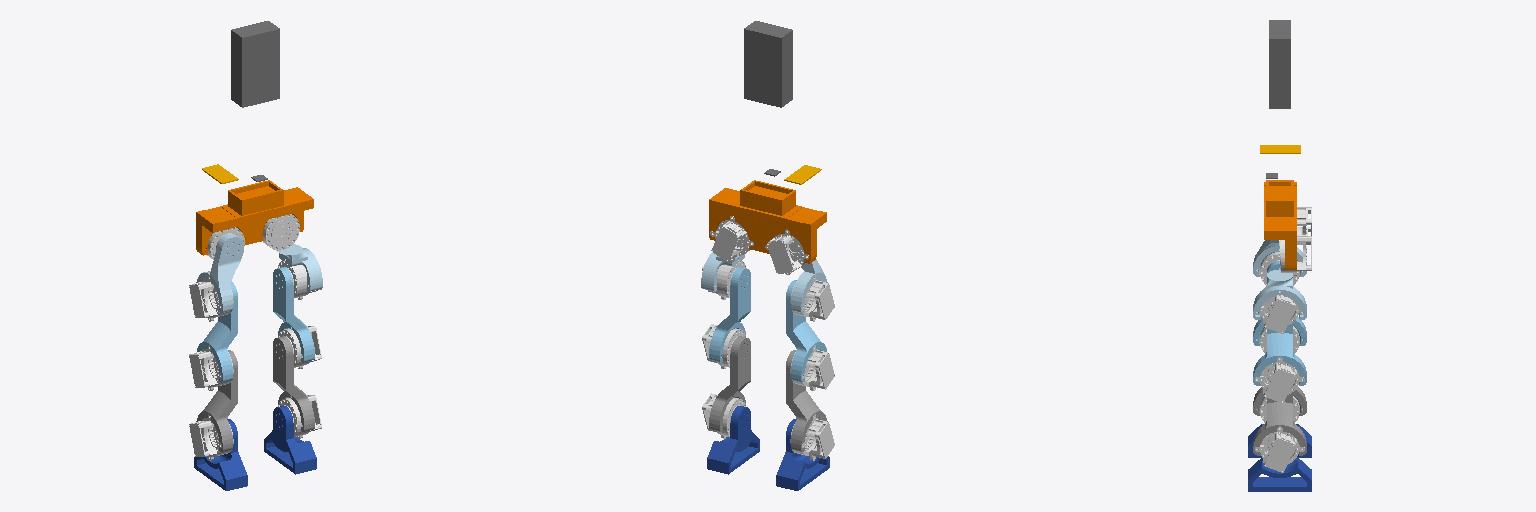
The robot description file, URDF, robot "chicken_v4":
<!--URDF generated by ONSHAPE BY PTC INC, 1.223-->
<robot name="chicken_v4">
    <link name="battery">
        <inertial>
            <mass value="0.000638352" />
            <origin xyz="1.30903e-17 -6.3375e-18 0.078" rpy="0 -0 0" />
            <inertia ixx="1.4096e-06" ixy="0" ixz="0" iyy="1.70653e-06" iyz="0" izz="5.26973e-07" />
        </inertial>
        <visual>
            <origin xyz="1.64023e-17 -6.17031e-18 -0.2069" rpy="0 -0 0" />
            <geometry>
                <mesh filename="package://chicken_v4/meshes/battery.stl" scale="1 1 1" />
            </geometry>
            <material name="0.498039_0.498039_0.498039_0.000000_0.000000">
                <color rgba="0.498039 0.498039 0.498039 1" />
            </material>
        </visual>
    </link>
    <link name="hip">
        <inertial>
            <mass value="0.850859" />
            <origin xyz="0.000321877 0.00769638 0.166364" rpy="0 -0 0" />
            <inertia ixx="0.000834692" ixy="1.69702e-06" ixz="-4.11791e-06" iyy="0.00380616" iyz="0.000171326" izz="0.00357084" />
        </inertial>
        <visual>
            <origin xyz="0 0 0" rpy="0 -0 0" />
            <geometry>
                <mesh filename="package://chicken_v4/meshes/hip.stl" scale="1 1 1" />
            </geometry>
            <material name="0.972549_0.529412_0.003922_0.000000_0.000000">
                <color rgba="0.972549 0.529412 0.00392157 1" />
            </material>
        </visual>
    </link>
    <link name="imu">
        <inertial>
            <mass value="0.00215625" />
            <origin xyz="4.66816e-18 3.46945e-18 -0.0015" rpy="0 -0 0" />
            <inertia ixx="9.66719e-08" ixy="0" ixz="0" iyy="1.13922e-07" iyz="0" izz="2.07359e-07" />
        </inertial>
        <visual>
            <origin xyz="4.29988e-18 0.016 -0.1619" rpy="0 -0 0" />
            <geometry>
                <mesh filename="package://chicken_v4/meshes/imu.stl" scale="1 1 1" />
            </geometry>
            <material name="0.498039_0.498039_0.498039_0.000000_0.000000">
                <color rgba="0.498039 0.498039 0.498039 1" />
            </material>
        </visual>
    </link>
    <link name="lfoot">
        <inertial>
            <mass value="0.27475" />
            <origin xyz="0.002788 -1.53514e-10 -0.0556859" rpy="0 -0 0" />
            <inertia ixx="0.000591386" ixy="-8.57351e-13" ixz="5.5009e-05" iyy="0.000336221" iyz="-1.65362e-13" izz="0.00036925" />
        </inertial>
        <visual>
            <origin xyz="-0.073 -1.58033e-15 0.3099" rpy="0 -0 0" />
            <geometry>
                <mesh filename="package://chicken_v4/meshes/lfoot.stl" scale="1 1 1" />
            </geometry>
            <material name="0.231373_0.380392_0.705882_0.000000_0.000000">
                <color rgba="0.231373 0.380392 0.705882 1" />
            </material>
        </visual>
    </link>
    <link name="lhip">
        <inertial>
            <mass value="0.170522" />
            <origin xyz="0.0178012 -0.00726228 -0.0442833" rpy="0 -0 0" />
            <inertia ixx="0.000355911" ixy="-7.93774e-06" ixz="7.96352e-05" iyy="0.000304669" iyz="2.53374e-05" izz="0.000156205" />
        </inertial>
        <visual>
            <origin xyz="-0.0645 0 -0.1076" rpy="0 -0 0" />
            <geometry>
                <mesh filename="package://chicken_v4/meshes/lhip.stl" scale="1 1 1" />
            </geometry>
            <material name="0.768627_0.886275_0.952941_0.000000_0.000000">
                <color rgba="0.768627 0.886275 0.952941 1" />
            </material>
        </visual>
    </link>
    <link name="llegbottom">
        <inertial>
            <mass value="0.228568" />
            <origin xyz="0.00475445 9.26903e-10 -0.0721569" rpy="0 -0 0" />
            <inertia ixx="0.000706948" ixy="-5.39854e-12" ixz="0.000141469" iyy="0.000630426" iyz="9.93255e-12" izz="0.000182743" />
        </inertial>
        <visual>
            <origin xyz="-0.073 0 0.15495" rpy="0 -0 0" />
            <geometry>
                <mesh filename="package://chicken_v4/meshes/llegbottom.stl" scale="1 1 1" />
            </geometry>
            <material name="0.647059_0.647059_0.647059_0.000000_0.000000">
                <color rgba="0.647059 0.647059 0.647059 1" />
            </material>
        </visual>
    </link>
    <link name="llegtop">
        <inertial>
            <mass value="0.228568" />
            <origin xyz="0.00475445 9.3524e-10 -0.0721569" rpy="0 -0 0" />
            <inertia ixx="0.000706948" ixy="-5.43468e-12" ixz="0.000141469" iyy="0.000630426" iyz="9.95435e-12" izz="0.000182743" />
        </inertial>
        <visual>
            <origin xyz="-0.073 0 -9.44925e-18" rpy="0 -0 0" />
            <geometry>
                <mesh filename="package://chicken_v4/meshes/llegtop.stl" scale="1 1 1" />
            </geometry>
            <material name="0.615686_0.811765_0.929412_0.000000_0.000000">
                <color rgba="0.615686 0.811765 0.929412 1" />
            </material>
        </visual>
    </link>
    <link name="rfoot">
        <inertial>
            <mass value="0.27475" />
            <origin xyz="-0.002788 -1.53512e-10 -0.0556859" rpy="0 -0 0" />
            <inertia ixx="0.000591386" ixy="8.57351e-13" ixz="-5.5009e-05" iyy="0.000336221" iyz="-1.65362e-13" izz="0.00036925" />
        </inertial>
        <visual>
            <origin xyz="0.073 0 0.3099" rpy="0 -0 0" />
            <geometry>
                <mesh filename="package://chicken_v4/meshes/rfoot.stl" scale="1 1 1" />
            </geometry>
            <material name="0.231373_0.380392_0.705882_0.000000_0.000000">
                <color rgba="0.231373 0.380392 0.705882 1" />
            </material>
        </visual>
    </link>
    <link name="rhip">
        <inertial>
            <mass value="0.170522" />
            <origin xyz="-0.0178012 -0.00726228 -0.0442833" rpy="0 -0 0" />
            <inertia ixx="0.000355911" ixy="7.93774e-06" ixz="-7.96352e-05" iyy="0.000304669" iyz="2.53374e-05" izz="0.000156205" />
        </inertial>
        <visual>
            <origin xyz="0.0645 0 -0.1076" rpy="0 -0 0" />
            <geometry>
                <mesh filename="package://chicken_v4/meshes/rhip.stl" scale="1 1 1" />
            </geometry>
            <material name="0.768627_0.886275_0.952941_0.000000_0.000000">
                <color rgba="0.768627 0.886275 0.952941 1" />
            </material>
        </visual>
    </link>
    <link name="rlegbottom">
        <inertial>
            <mass value="0.228568" />
            <origin xyz="-0.00475445 9.24648e-10 -0.0721569" rpy="0 -0 0" />
            <inertia ixx="0.000706948" ixy="4.41611e-12" ixz="-0.000141469" iyy="0.000630426" iyz="9.21174e-12" izz="0.000182743" />
        </inertial>
        <visual>
            <origin xyz="0.073 0 0.15495" rpy="0 -0 0" />
            <geometry>
                <mesh filename="package://chicken_v4/meshes/rlegbottom.stl" scale="1 1 1" />
            </geometry>
            <material name="0.647059_0.647059_0.647059_0.000000_0.000000">
                <color rgba="0.647059 0.647059 0.647059 1" />
            </material>
        </visual>
    </link>
    <link name="rlegtop">
        <inertial>
            <mass value="0.228568" />
            <origin xyz="-0.00475445 9.29488e-10 -0.0721569" rpy="0 -0 0" />
            <inertia ixx="0.000706948" ixy="4.44197e-12" ixz="-0.000141469" iyy="0.000630426" iyz="9.23608e-12" izz="0.000182743" />
        </inertial>
        <visual>
            <origin xyz="0.073 0 -9.44925e-18" rpy="0 -0 0" />
            <geometry>
                <mesh filename="package://chicken_v4/meshes/rlegtop.stl" scale="1 1 1" />
            </geometry>
            <material name="0.615686_0.811765_0.929412_0.000000_0.000000">
                <color rgba="0.615686 0.811765 0.929412 1" />
            </material>
        </visual>
    </link>
    <link name="root" />
    <link name="simplecycloid">
        <inertial>
            <mass value="0.000118329" />
            <origin xyz="0.00346062 0.0458377 8.81747e-05" rpy="0 -0 0" />
            <inertia ixx="1.15511e-07" ixy="1.54615e-10" ixz="3.6442e-10" iyy="1.05939e-07" iyz="-7.74897e-09" izz="9.3638e-08" />
        </inertial>
        <visual>
            <origin xyz="0.1005 0.0458 0.15495" rpy="0 -0 0" />
            <geometry>
                <mesh filename="package://chicken_v4/meshes/simplecycloid.stl" scale="1 1 1" />
            </geometry>
            <material name="0.917647_0.917647_0.917647_0.000000_0.000000">
                <color rgba="0.917647 0.917647 0.917647 1" />
            </material>
        </visual>
    </link>
    <link name="simplecycloid_1">
        <inertial>
            <mass value="0.000118329" />
            <origin xyz="-0.00346062 -0.0457623 8.81747e-05" rpy="0 -0 0" />
            <inertia ixx="1.15511e-07" ixy="-1.54615e-10" ixz="-3.6442e-10" iyy="1.05939e-07" iyz="-7.74898e-09" izz="9.3638e-08" />
        </inertial>
        <visual>
            <origin xyz="-0.1005 -0.0458 -1.05512e-17" rpy="0 -0 0" />
            <geometry>
                <mesh filename="package://chicken_v4/meshes/simplecycloid_1.stl" scale="1 1 1" />
            </geometry>
            <material name="0.917647_0.917647_0.917647_0.000000_0.000000">
                <color rgba="0.917647 0.917647 0.917647 1" />
            </material>
        </visual>
    </link>
    <link name="simplecycloid_2">
        <inertial>
            <mass value="0.000118329" />
            <origin xyz="0.00346062 0.0458377 8.81747e-05" rpy="0 -0 0" />
            <inertia ixx="1.15511e-07" ixy="1.54615e-10" ixz="3.6442e-10" iyy="1.05939e-07" iyz="-7.74897e-09" izz="9.3638e-08" />
        </inertial>
        <visual>
            <origin xyz="0.1005 0.0458 0.3099" rpy="0 -0 0" />
            <geometry>
                <mesh filename="package://chicken_v4/meshes/simplecycloid_2.stl" scale="1 1 1" />
            </geometry>
            <material name="0.917647_0.917647_0.917647_0.000000_0.000000">
                <color rgba="0.917647 0.917647 0.917647 1" />
            </material>
        </visual>
    </link>
    <link name="simplecycloid_3">
        <inertial>
            <mass value="0.000118329" />
            <origin xyz="0.0458377 -0.00346062 8.81747e-05" rpy="0 -0 0" />
            <inertia ixx="1.05939e-07" ixy="-1.54615e-10" ixz="-7.74897e-09" iyy="1.15511e-07" iyz="-3.6442e-10" izz="9.3638e-08" />
        </inertial>
        <visual>
            <origin xyz="0.1103 -0.0275 -0.1076" rpy="0 -0 0" />
            <geometry>
                <mesh filename="package://chicken_v4/meshes/simplecycloid_3.stl" scale="1 1 1" />
            </geometry>
            <material name="0.917647_0.917647_0.917647_0.000000_0.000000">
                <color rgba="0.917647 0.917647 0.917647 1" />
            </material>
        </visual>
    </link>
    <link name="simplecycloid_4">
        <inertial>
            <mass value="0.000118329" />
            <origin xyz="0.00346062 0.0458377 8.81747e-05" rpy="0 -0 0" />
            <inertia ixx="1.15511e-07" ixy="1.54615e-10" ixz="3.6442e-10" iyy="1.05939e-07" iyz="-7.74897e-09" izz="9.3638e-08" />
        </inertial>
        <visual>
            <origin xyz="0.1005 0.0458 -1.48277e-17" rpy="0 -0 0" />
            <geometry>
                <mesh filename="package://chicken_v4/meshes/simplecycloid_4.stl" scale="1 1 1" />
            </geometry>
            <material name="0.917647_0.917647_0.917647_0.000000_0.000000">
                <color rgba="0.917647 0.917647 0.917647 1" />
            </material>
        </visual>
    </link>
    <link name="simplecycloid_5">
        <inertial>
            <mass value="0.000118329" />
            <origin xyz="0.0457623 -0.00346062 8.81747e-05" rpy="0 -0 0" />
            <inertia ixx="1.05939e-07" ixy="1.54615e-10" ixz="7.74898e-09" iyy="1.15511e-07" iyz="-3.6442e-10" izz="9.3638e-08" />
        </inertial>
        <visual>
            <origin xyz="-0.0187 -0.0275 -0.1076" rpy="0 -0 0" />
            <geometry>
                <mesh filename="package://chicken_v4/meshes/simplecycloid_5.stl" scale="1 1 1" />
            </geometry>
            <material name="0.917647_0.917647_0.917647_0.000000_0.000000">
                <color rgba="0.917647 0.917647 0.917647 1" />
            </material>
        </visual>
    </link>
    <link name="simplecycloid_6">
        <inertial>
            <mass value="0.000118329" />
            <origin xyz="-0.00346062 -0.0457623 8.81747e-05" rpy="0 -0 0" />
            <inertia ixx="1.15511e-07" ixy="-1.54615e-10" ixz="-3.6442e-10" iyy="1.05939e-07" iyz="-7.74898e-09" izz="9.3638e-08" />
        </inertial>
        <visual>
            <origin xyz="-0.1005 -0.0458 0.3099" rpy="0 -0 0" />
            <geometry>
                <mesh filename="package://chicken_v4/meshes/simplecycloid_6.stl" scale="1 1 1" />
            </geometry>
            <material name="0.917647_0.917647_0.917647_0.000000_0.000000">
                <color rgba="0.917647 0.917647 0.917647 1" />
            </material>
        </visual>
    </link>
    <link name="simplecycloid_7">
        <inertial>
            <mass value="0.000118329" />
            <origin xyz="-0.00346062 -0.0457623 8.81747e-05" rpy="0 -0 0" />
            <inertia ixx="1.15511e-07" ixy="-1.54615e-10" ixz="-3.6442e-10" iyy="1.05939e-07" iyz="-7.74898e-09" izz="9.3638e-08" />
        </inertial>
        <visual>
            <origin xyz="-0.1005 -0.0458 0.15495" rpy="0 -0 0" />
            <geometry>
                <mesh filename="package://chicken_v4/meshes/simplecycloid_7.stl" scale="1 1 1" />
            </geometry>
            <material name="0.917647_0.917647_0.917647_0.000000_0.000000">
                <color rgba="0.917647 0.917647 0.917647 1" />
            </material>
        </visual>
    </link>
    <link name="stm32">
        <inertial>
            <mass value="0.0123" />
            <origin xyz="1.38778e-17 1.73472e-17 0.0015" rpy="0 -0 0" />
            <inertia ixx="6.90133e-06" ixy="0" ixz="0" iyy="1.64922e-06" iyz="0" izz="8.5321e-06" />
        </inertial>
        <visual>
            <origin xyz="0.0817529 -0.00263012 -0.1819" rpy="0 -0 0" />
            <geometry>
                <mesh filename="package://chicken_v4/meshes/stm32.stl" scale="1 1 1" />
            </geometry>
            <material name="0.980392_0.713725_0.003922_0.000000_0.000000">
                <color rgba="0.980392 0.713726 0.00392157 1" />
            </material>
        </visual>
    </link>
    <joint name="fastened_1" type="fixed">
        <origin xyz="-1.64023e-17 6.17031e-18 0.2069" rpy="0 -0 0" />
        <axis xyz="0 0 -1" />
        <parent link="hip" />
        <child link="battery" />
    </joint>
    <joint name="fastened_10" type="fixed">
        <origin xyz="-0.0275 -0.0458 -0.15495" rpy="0 -0 0" />
        <axis xyz="1 0 -1.06752e-16" />
        <parent link="rlegtop" />
        <child link="simplecycloid" />
    </joint>
    <joint name="fastened_11" type="fixed">
        <origin xyz="-0.0275 -0.0458 -0.15495" rpy="0 -0 0" />
        <axis xyz="1 0 -1.06752e-16" />
        <parent link="rlegbottom" />
        <child link="simplecycloid_2" />
    </joint>
    <joint name="fastened_2" type="fixed">
        <origin xyz="-4.29988e-18 -0.016 0.1629" rpy="0 -0 0" />
        <axis xyz="0 0 1" />
        <parent link="hip" />
        <child link="imu" />
    </joint>
    <joint name="fastened_3" type="fixed">
        <origin xyz="-0.0817529 0.0015 0.1809" rpy="0 -0 0" />
        <axis xyz="0 0 -1" />
        <parent link="hip" />
        <child link="stm32" />
    </joint>
    <joint name="fastened_4" type="fixed">
        <origin xyz="-0.1103 0.0275 0.1076" rpy="0 -0 0" />
        <axis xyz="0 -1 0" />
        <parent link="hip" />
        <child link="simplecycloid_3" />
    </joint>
    <joint name="fastened_5" type="fixed">
        <origin xyz="0.0187 0.0275 0.1076" rpy="0 -0 0" />
        <axis xyz="0 -1 0" />
        <parent link="hip" />
        <child link="simplecycloid_5" />
    </joint>
    <joint name="fastened_6" type="fixed">
        <origin xyz="0.036 0.0458 -0.1076" rpy="0 -0 0" />
        <axis xyz="-1 0 -1.06752e-16" />
        <parent link="lhip" />
        <child link="simplecycloid_1" />
    </joint>
    <joint name="fastened_7" type="fixed">
        <origin xyz="0.0275 0.0458 -0.15495" rpy="0 -0 0" />
        <axis xyz="-1 0 -1.06752e-16" />
        <parent link="llegtop" />
        <child link="simplecycloid_7" />
    </joint>
    <joint name="fastened_8" type="fixed">
        <origin xyz="0.0275 0.0458 -0.15495" rpy="0 -0 0" />
        <axis xyz="-1 0 -1.06752e-16" />
        <parent link="llegbottom" />
        <child link="simplecycloid_6" />
    </joint>
    <joint name="fastened_9" type="fixed">
        <origin xyz="-0.036 -0.0458 -0.1076" rpy="0 -0 0" />
        <axis xyz="1 0 -1.06752e-16" />
        <parent link="rhip" />
        <child link="simplecycloid_4" />
    </joint>
    <joint name="fixed_node_to_root_joint" type="fixed">
        <origin xyz="0 0 0" rpy="0 -0 0" />
        <axis xyz="0 0 1" />
        <parent link="root" />
        <child link="hip" />
    </joint>
    <joint name="revolute_1" type="continuous">
        <origin xyz="0.0275 0.0458 -8.84793e-18" rpy="0 -0 0" />
        <axis xyz="-1 0 1.06752e-16" />
        <parent link="simplecycloid_4" />
        <child link="rlegtop" />
    </joint>
    <joint name="revolute_2" type="continuous">
        <origin xyz="0.0275 0.0458 -2.77556e-17" rpy="0 -0 0" />
        <axis xyz="-1 0 1.06752e-16" />
        <parent link="simplecycloid" />
        <child link="rlegbottom" />
    </joint>
    <joint name="revolute_3" type="continuous">
        <origin xyz="0.0275 0.0458 -1.11022e-16" rpy="0 -0 0" />
        <axis xyz="-1 0 1.06752e-16" />
        <parent link="simplecycloid_2" />
        <child link="rfoot" />
    </joint>
    <joint name="revolute_4" type="continuous">
        <origin xyz="-0.0275 -0.0458 -1.10192e-18" rpy="0 -0 0" />
        <axis xyz="1 0 1.06752e-16" />
        <parent link="simplecycloid_1" />
        <child link="llegtop" />
    </joint>
    <joint name="revolute_5" type="continuous">
        <origin xyz="-0.0275 -0.0458 0" rpy="0 -0 0" />
        <axis xyz="1 0 1.06752e-16" />
        <parent link="simplecycloid_7" />
        <child link="llegbottom" />
    </joint>
    <joint name="revolute_6" type="continuous">
        <origin xyz="-0.0275 -0.0458 0" rpy="0 -0 0" />
        <axis xyz="1 0 1.06752e-16" />
        <parent link="simplecycloid_6" />
        <child link="lfoot" />
    </joint>
    <joint name="revolute_7" type="continuous">
        <origin xyz="0.0458 -0.0275 0" rpy="0 -0 0" />
        <axis xyz="0 1 0" />
        <parent link="simplecycloid_5" />
        <child link="lhip" />
    </joint>
    <joint name="revolute_8" type="continuous">
        <origin xyz="0.0458 -0.0275 -5.55112e-17" rpy="0 -0 0" />
        <axis xyz="0 1 0" />
        <parent link="simplecycloid_3" />
        <child link="rhip" />
    </joint>
</robot>

--- Facts derived from the render (not from the file) ---
3 views of the same robot in one strip: view 1: azimuth 30°, elevation 25°; view 2: azimuth 150°, elevation 25°; view 3: azimuth 270°, elevation 25° (orthographic).
Robot: chicken_v4 — 21 links, 20 joints (8 continuous, 12 fixed); root link root; default pose: every joint at zero.
Links seen in each view (by area): view 1: hip, battery, lfoot, llegbottom, llegtop, rhip, rfoot, rlegbottom, rlegtop, simplecycloid_5, simplecycloid, simplecycloid_2 (+5 smaller); view 2: hip, battery, lfoot, llegbottom, llegtop, rfoot, rlegtop, rlegbottom, simplecycloid_5, simplecycloid_3, simplecycloid_2, simplecycloid (+6 smaller); view 3: hip, battery, lfoot, llegbottom, llegtop, simplecycloid_6, simplecycloid_7, lhip, simplecycloid_1, rhip, simplecycloid_5, rlegtop.
Boxes of the visible links, bbox=[...] form: hip: bbox=[196, 180, 313, 255]; battery: bbox=[231, 21, 279, 107]; lfoot: bbox=[264, 406, 316, 474]; llegbottom: bbox=[273, 336, 314, 431]; llegtop: bbox=[273, 267, 314, 362]; rhip: bbox=[196, 233, 243, 312]; rfoot: bbox=[194, 419, 247, 490]; rlegbottom: bbox=[196, 350, 237, 451]; rlegtop: bbox=[197, 282, 237, 382]; simplecycloid_5: bbox=[263, 214, 299, 250]; simplecycloid: bbox=[189, 345, 233, 390]; simplecycloid_2: bbox=[189, 414, 233, 460]; hip: bbox=[709, 180, 826, 263]; battery: bbox=[744, 21, 792, 107]; lfoot: bbox=[707, 406, 759, 474]; llegbottom: bbox=[709, 336, 750, 431]; llegtop: bbox=[709, 267, 750, 362]; rfoot: bbox=[776, 419, 829, 490]; rlegtop: bbox=[786, 280, 826, 382]; rlegbottom: bbox=[786, 350, 827, 451]; simplecycloid_5: bbox=[710, 216, 753, 261]; simplecycloid_3: bbox=[765, 229, 808, 274]; simplecycloid_2: bbox=[790, 414, 834, 460]; simplecycloid: bbox=[790, 345, 834, 390]; hip: bbox=[1264, 180, 1296, 269]; battery: bbox=[1269, 20, 1290, 108]; lfoot: bbox=[1248, 457, 1311, 491]; llegbottom: bbox=[1253, 392, 1306, 455]; llegtop: bbox=[1253, 323, 1306, 385]; simplecycloid_6: bbox=[1255, 426, 1304, 472]; simplecycloid_7: bbox=[1255, 357, 1304, 402]; lhip: bbox=[1253, 270, 1306, 319]; simplecycloid_1: bbox=[1260, 295, 1299, 333]; rhip: bbox=[1253, 240, 1306, 276]; simplecycloid_5: bbox=[1280, 235, 1311, 275]; rlegtop: bbox=[1253, 261, 1306, 345].
Size in the robot's own frame: 0.2742 by 0.1291 by 0.9811 metres.
Meshes: 20 distinct files referenced, 20 mesh visuals loaded (20 binary STL).
